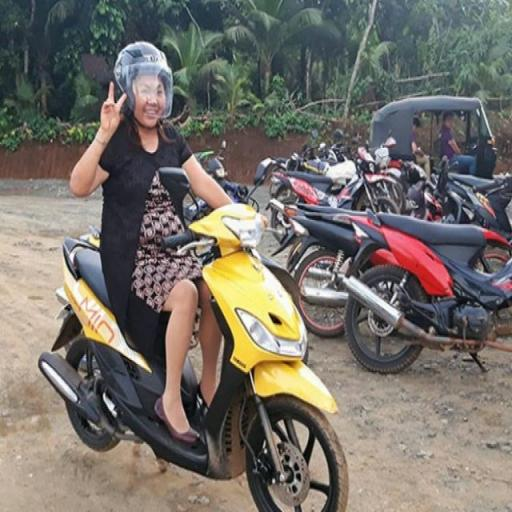Helmet: (114, 42, 172, 117)
Motor: (52, 216, 348, 512)
